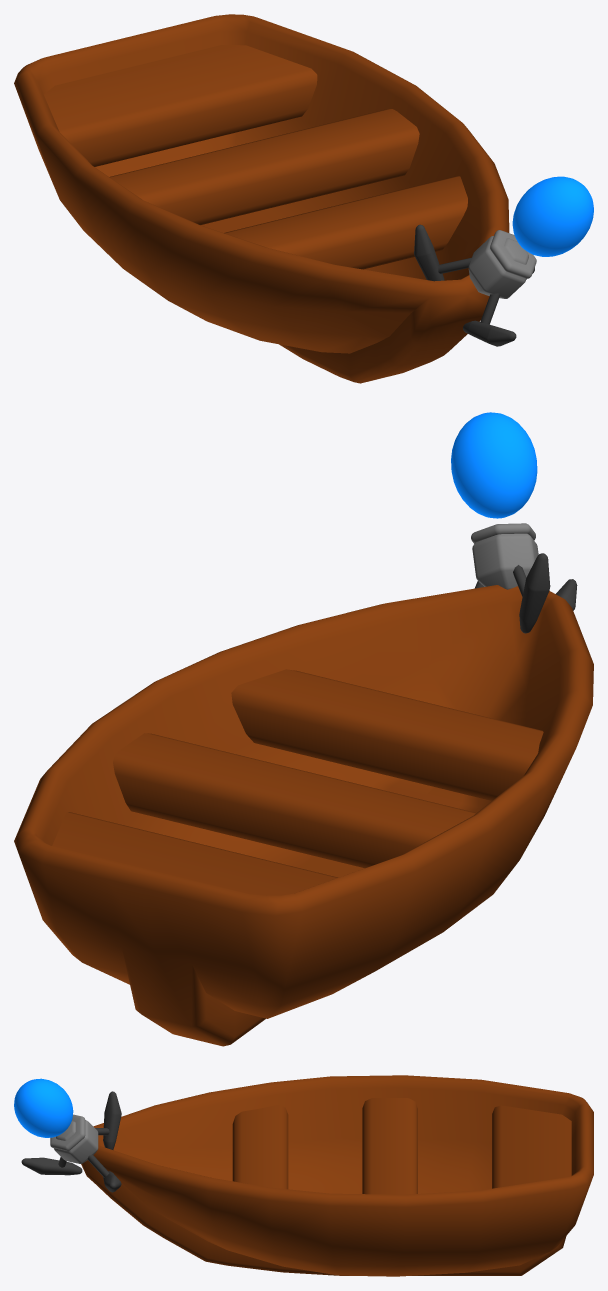
Rendered from LastLuna_Model_Object_Wooden_Boat.fbx.
3 renders of one model, top to bottom at view 1: azimuth 30°, elevation 25°; view 2: azimuth 150°, elevation 25°; view 3: azimuth 270°, elevation 25°, orthographic. The views are drawn at different scales.
Parts seen in each view (by area): view 1: Wooden_Boat001, Portal001, Drill_Body001, Drill_Top, Leg_Spike002, Leg_Spike001; view 2: Wooden_Boat001, Portal001, Drill_Body001, Leg_Spike002; view 3: Wooden_Boat001, Portal001, Drill_Body001, Leg_Spike001, Leg_Spike002, Drill_Top.
Boxes of the visible parts, box(x1,y1,x2,y2) form: Wooden_Boat001: box(14, 14, 509, 383); Portal001: box(512, 176, 593, 256); Drill_Body001: box(468, 236, 528, 298); Drill_Top: box(490, 230, 536, 278); Leg_Spike002: box(414, 224, 444, 281); Leg_Spike001: box(463, 320, 516, 346); Wooden_Boat001: box(14, 585, 593, 1046); Portal001: box(451, 412, 537, 518); Drill_Body001: box(472, 533, 538, 589); Leg_Spike002: box(519, 553, 550, 633); Wooden_Boat001: box(81, 1075, 593, 1276); Portal001: box(14, 1078, 73, 1137); Drill_Body001: box(54, 1120, 98, 1163); Leg_Spike001: box(21, 1157, 82, 1175); Leg_Spike002: box(103, 1091, 121, 1149); Drill_Top: box(50, 1114, 85, 1150).
Bounding box in the file's own units: 408 × 315 × 783.
